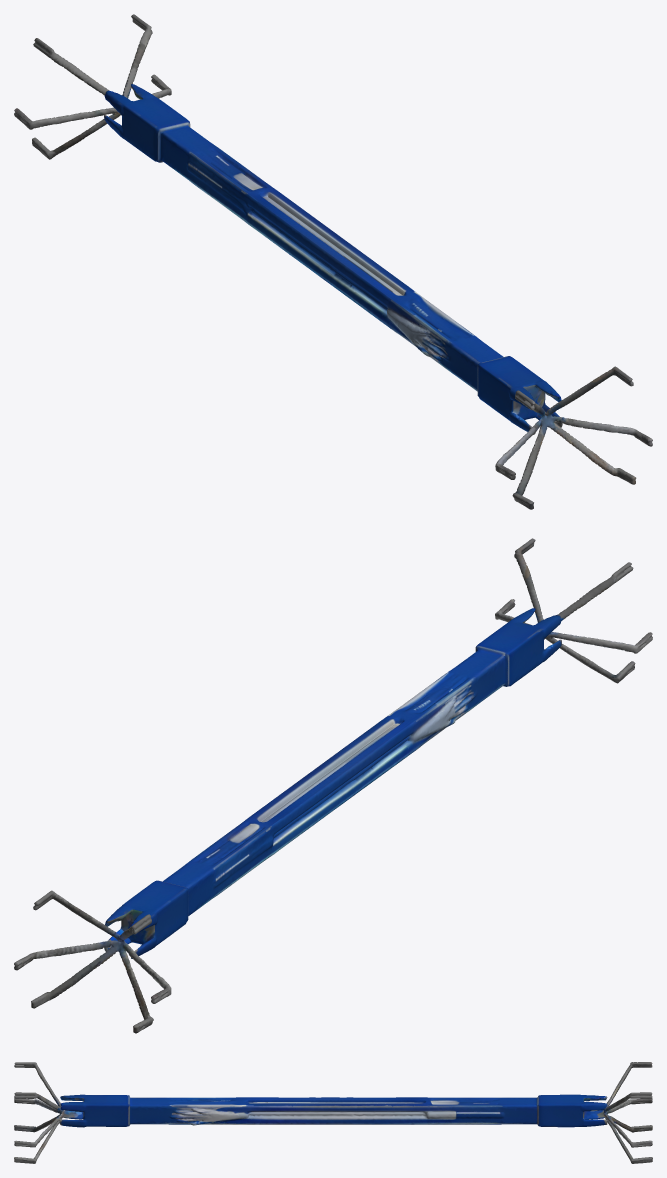
Rendered from network_switch.glb.
3 views of the same model, one above another, from view 1: azimuth 30°, elevation 25°; view 2: azimuth 150°, elevation 25°; view 3: azimuth 270°, elevation 25° (orthographic). The views are drawn at different scales.
Parts seen in each view (by area): view 1: tripo_node_41acadfa-951f-4d03-96d0-7e133e965e0a; view 2: tripo_node_41acadfa-951f-4d03-96d0-7e133e965e0a; view 3: tripo_node_41acadfa-951f-4d03-96d0-7e133e965e0a.
Boxes of the visible parts, bbox=[...] form: tripo_node_41acadfa-951f-4d03-96d0-7e133e965e0a: bbox=[14, 14, 652, 509]; tripo_node_41acadfa-951f-4d03-96d0-7e133e965e0a: bbox=[14, 538, 652, 1033]; tripo_node_41acadfa-951f-4d03-96d0-7e133e965e0a: bbox=[14, 1062, 652, 1163].
Bounding box in the file's own units: 0.165 × 0.1219 × 1.
Materials: 1 (1 with a texture image).
